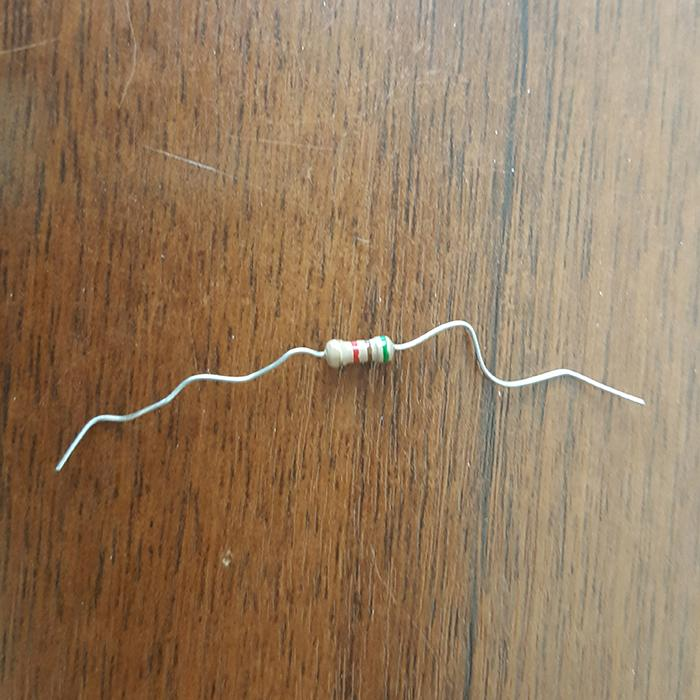resistor: (323, 334, 394, 368)
